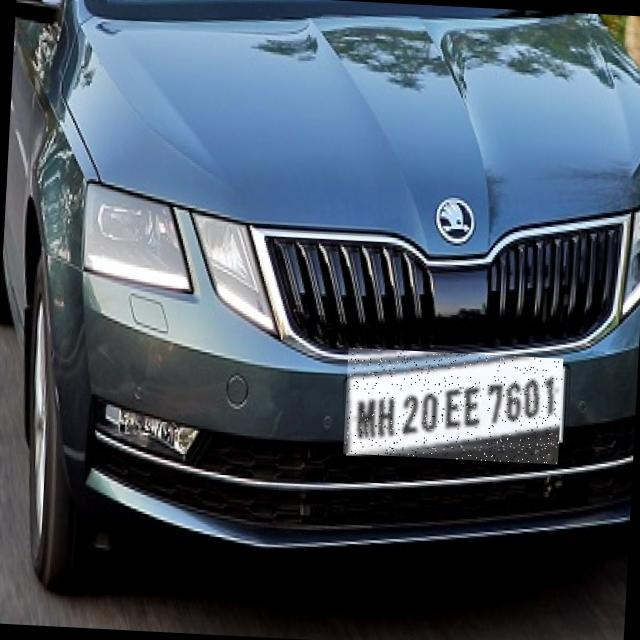Plate: (344, 349, 564, 466)
